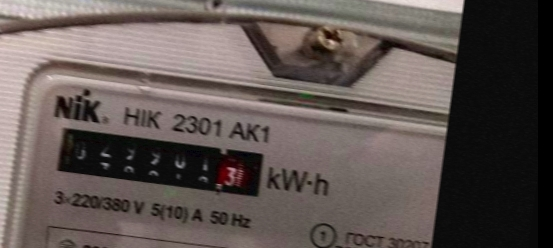0: (171, 143, 188, 170), (70, 137, 89, 160)
1: (196, 148, 212, 172)
2: (96, 137, 114, 158)
3: (221, 162, 237, 186)
9: (146, 142, 163, 166), (122, 139, 136, 162)
screen: (42, 114, 275, 207)
